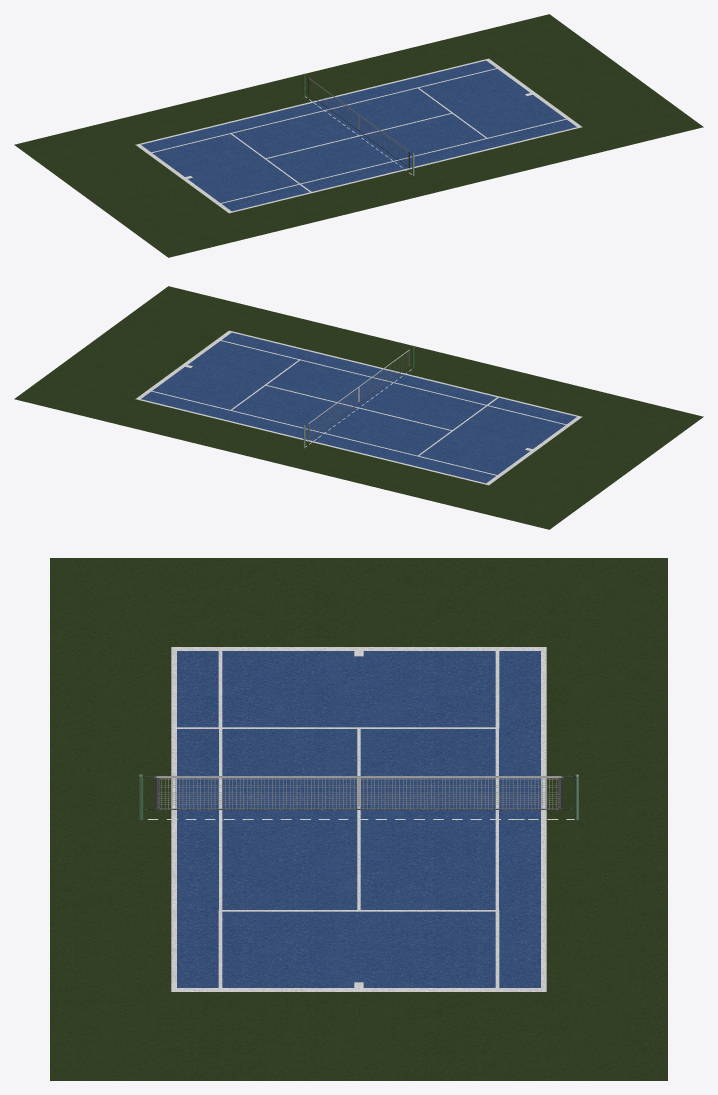
The model's file is court.fbx.
3 renders of one model, top to bottom at view 1: azimuth 30°, elevation 25°; view 2: azimuth 150°, elevation 25°; view 3: azimuth 270°, elevation 25°, orthographic. The views are drawn at different scales.
Visible parts, largest first — view 1: floor, net; view 2: floor, net; view 3: floor, net.
Part boxes in pixels (x1,y1,x2,y2): floor: (14,14,703,257); net: (305,75,412,168); floor: (14,286,703,529); net: (305,347,412,440); floor: (50,558,667,1080); net: (143,776,574,810).
Size of the model in its own units: 2713 by 108 by 1356.
